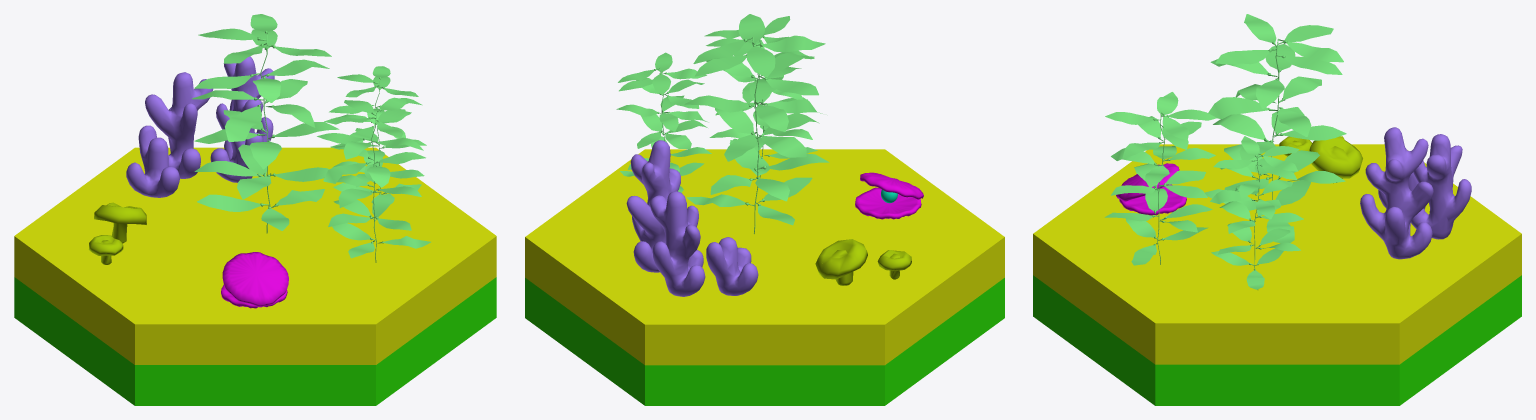
Rendered from HexagonNonconstructible3.fbx.
The picture shows the model from 3 angles, left to right: view 1: azimuth 30°, elevation 25°; view 2: azimuth 150°, elevation 25°; view 3: azimuth 270°, elevation 25°; orthographic projection.
Visible parts, largest first — view 1: Circle, Algas, Coral Large, Shell, Mush; view 2: Circle, Algas, Coral Large, Mush, Shell; view 3: Circle, Algas, Coral Large, Mush, Shell.
Part boxes in pixels (bbox=[...]): Circle: bbox=[14, 147, 496, 405]; Algas: bbox=[192, 14, 430, 262]; Coral Large: bbox=[126, 56, 274, 197]; Shell: bbox=[221, 252, 288, 308]; Mush: bbox=[88, 202, 146, 264]; Circle: bbox=[525, 149, 1004, 405]; Algas: bbox=[616, 14, 829, 233]; Coral Large: bbox=[626, 140, 758, 296]; Mush: bbox=[815, 239, 911, 285]; Shell: bbox=[855, 172, 923, 219]; Circle: bbox=[1033, 144, 1521, 405]; Algas: bbox=[1104, 14, 1346, 289]; Coral Large: bbox=[1360, 127, 1471, 259]; Mush: bbox=[1279, 136, 1362, 183]; Shell: bbox=[1116, 163, 1186, 215].
Bounding box in the file's own units: 173 × 128 × 200.
